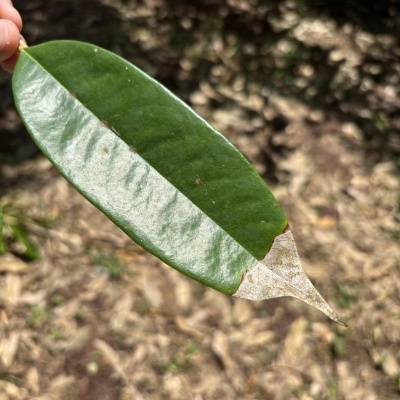Leaf_Blight: (7, 38, 349, 330)
